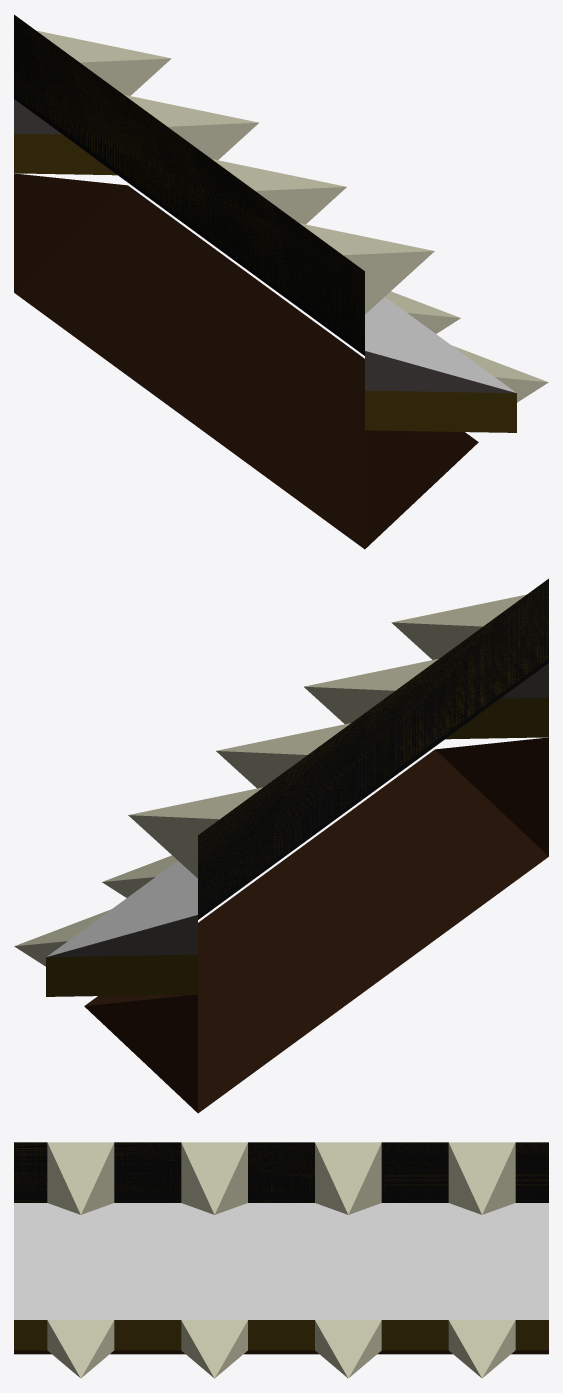
Rendered from model_loc_1667_z.obj.
The picture shows the model from 3 angles, top to bottom: view 1: azimuth 30°, elevation 25°; view 2: azimuth 150°, elevation 25°; view 3: azimuth 270°, elevation 25°; orthographic projection. The views are drawn at different scales.
Visible parts, largest first — view 1: 950; view 2: 950; view 3: 950.
Part boxes in pixels (<box>): 950: <box>14,14,548,549</box>; 950: <box>14,578,548,1113</box>; 950: <box>14,1142,548,1378</box>.
Bounding box in the file's own units: 48 × 56 × 128.
